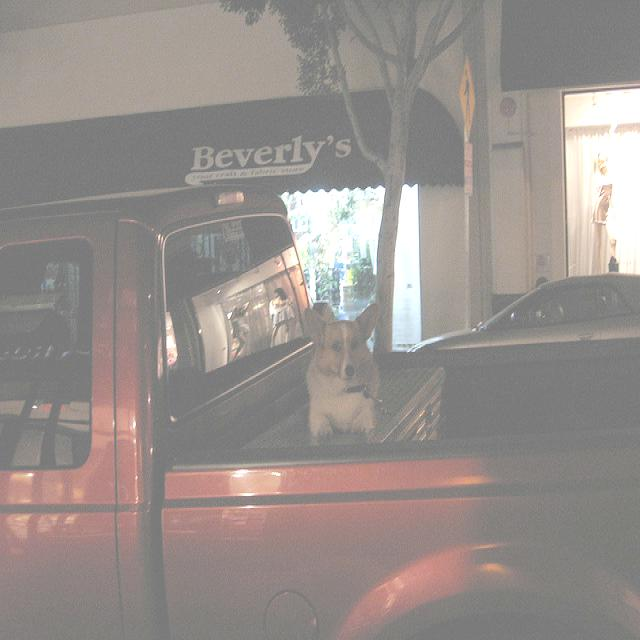Dog: (265, 191, 421, 514)
